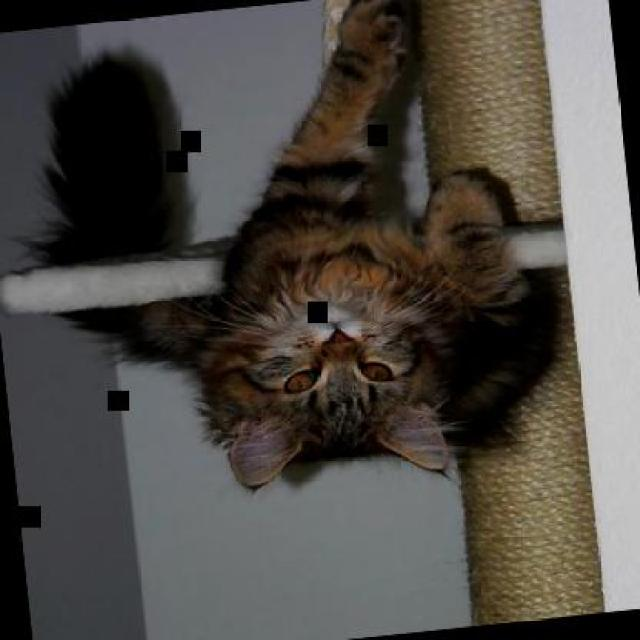cat: (23, 0, 540, 512)
